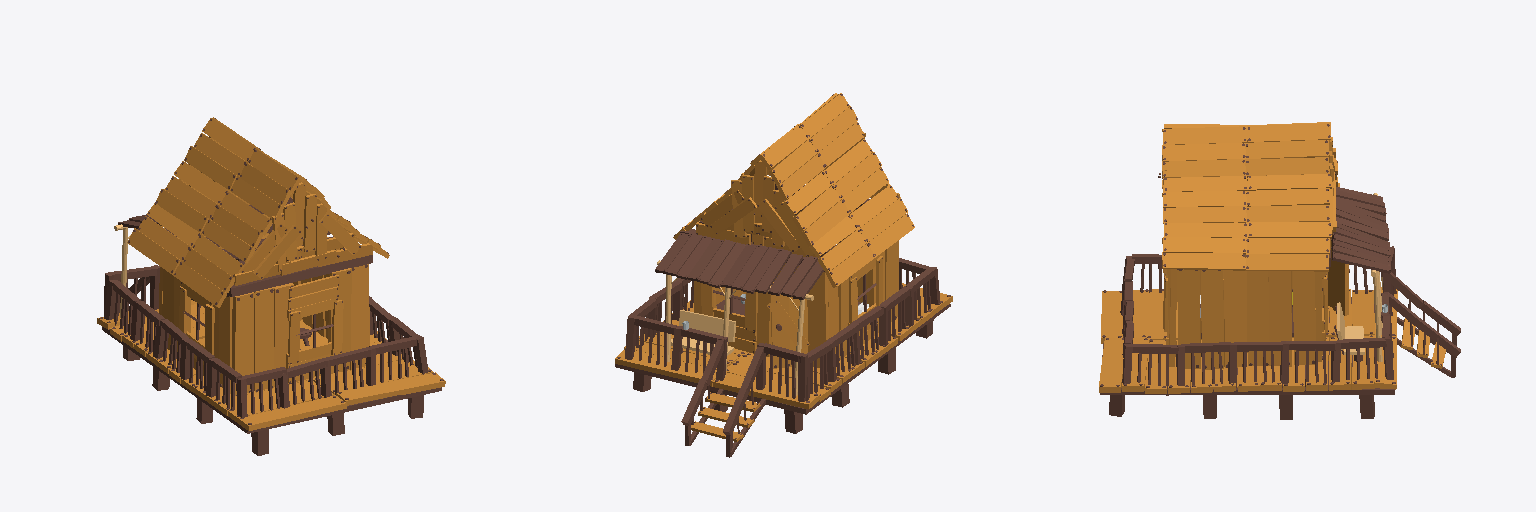
3 views of the same model, side by side, from view 1: azimuth 30°, elevation 25°; view 2: azimuth 150°, elevation 25°; view 3: azimuth 270°, elevation 25° (orthographic).
Visible parts, largest first — view 1: group[number redacted], group[number redacted], group[number redacted], group[number redacted], group[number redacted], group[number redacted], group[number redacted], group[number redacted], group[number redacted], group[number redacted], group[number redacted], group[number redacted] (+25 smaller); view 2: group[number redacted], group[number redacted], group[number redacted], group[number redacted], group[number redacted], group[number redacted], group[number redacted], group[number redacted], group[number redacted], group[number redacted], group[number redacted], group[number redacted] (+19 smaller); view 3: group[number redacted], group[number redacted], group[number redacted], group[number redacted], group[number redacted], group[number redacted], group[number redacted], group[number redacted], group[number redacted], group[number redacted], group[number redacted], group[number redacted] (+15 smaller).
Part boxes in pixels (bbox=[...]): group[number redacted]: bbox=[156, 161, 272, 262]; group[number redacted]: bbox=[127, 202, 243, 307]; group[number redacted]: bbox=[184, 118, 301, 218]; group[number redacted]: bbox=[232, 292, 254, 395]; group[number redacted]: bbox=[254, 287, 274, 391]; group[number redacted]: bbox=[336, 372, 445, 405]; group[number redacted]: bbox=[238, 395, 346, 430]; group[number redacted]: bbox=[350, 264, 369, 369]; group[number redacted]: bbox=[227, 255, 372, 296]; group[number redacted]: bbox=[236, 367, 286, 417]; group[number redacted]: bbox=[102, 327, 441, 433]; group[number redacted]: bbox=[366, 337, 416, 385]; group[number redacted]: bbox=[782, 139, 888, 246]; group[number redacted]: bbox=[759, 93, 863, 199]; group[number redacted]: bbox=[809, 185, 914, 287]; group[number redacted]: bbox=[700, 160, 813, 256]; group[number redacted]: bbox=[756, 343, 807, 401]; group[number redacted]: bbox=[807, 272, 828, 367]; group[number redacted]: bbox=[625, 315, 676, 366]; group[number redacted]: bbox=[615, 350, 716, 386]; group[number redacted]: bbox=[712, 372, 819, 409]; group[number redacted]: bbox=[615, 304, 950, 414]; group[number redacted]: bbox=[671, 308, 735, 355]; group[number redacted]: bbox=[879, 286, 910, 352]; group[number redacted]: bbox=[1162, 123, 1330, 177]; group[number redacted]: bbox=[1162, 222, 1331, 271]; group[number redacted]: bbox=[1162, 174, 1331, 223]; group[number redacted]: bbox=[1201, 270, 1223, 369]; group[number redacted]: bbox=[1178, 269, 1200, 368]; group[number redacted]: bbox=[1224, 270, 1246, 367]; group[number redacted]: bbox=[1247, 271, 1269, 365]; group[number redacted]: bbox=[1269, 271, 1291, 366]; group[number redacted]: bbox=[1293, 271, 1315, 364]; group[number redacted]: bbox=[1331, 338, 1386, 382]; group[number redacted]: bbox=[1280, 341, 1335, 387]; group[number redacted]: bbox=[1176, 342, 1230, 385].
Bounding box in the file's own units: 2 × 2.39 × 3.14.